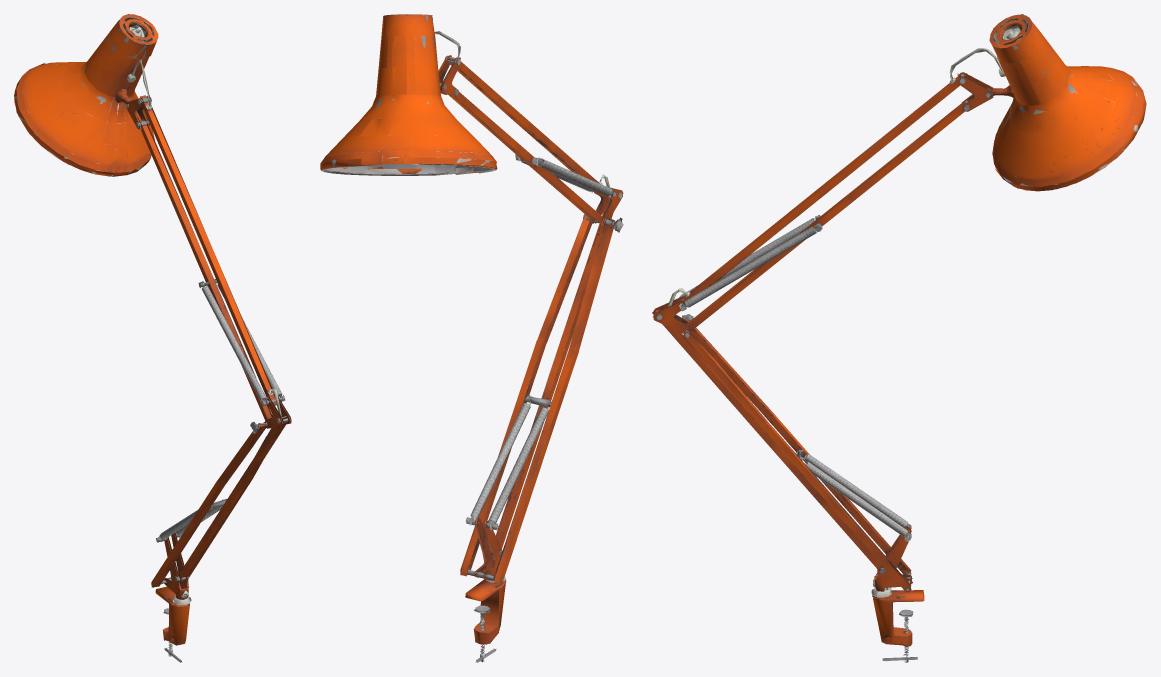
The model's file is ph_desk_lamp.glb.
3 renders of one model, left to right at view 1: azimuth 30°, elevation 25°; view 2: azimuth 150°, elevation 25°; view 3: azimuth 270°, elevation 25°, orthographic. The views are drawn at different scales.
Visible parts, largest first — view 1: desk_lamp_arm_01; view 2: desk_lamp_arm_01; view 3: desk_lamp_arm_01.
Boxes of the visible parts, bbox=[...] form: desk_lamp_arm_01: bbox=[14, 14, 291, 662]; desk_lamp_arm_01: bbox=[320, 14, 623, 662]; desk_lamp_arm_01: bbox=[652, 14, 1146, 662].
Bounding box in the file's own units: 0.2021 × 0.8927 × 0.6157.
2 materials, 2 textured.
